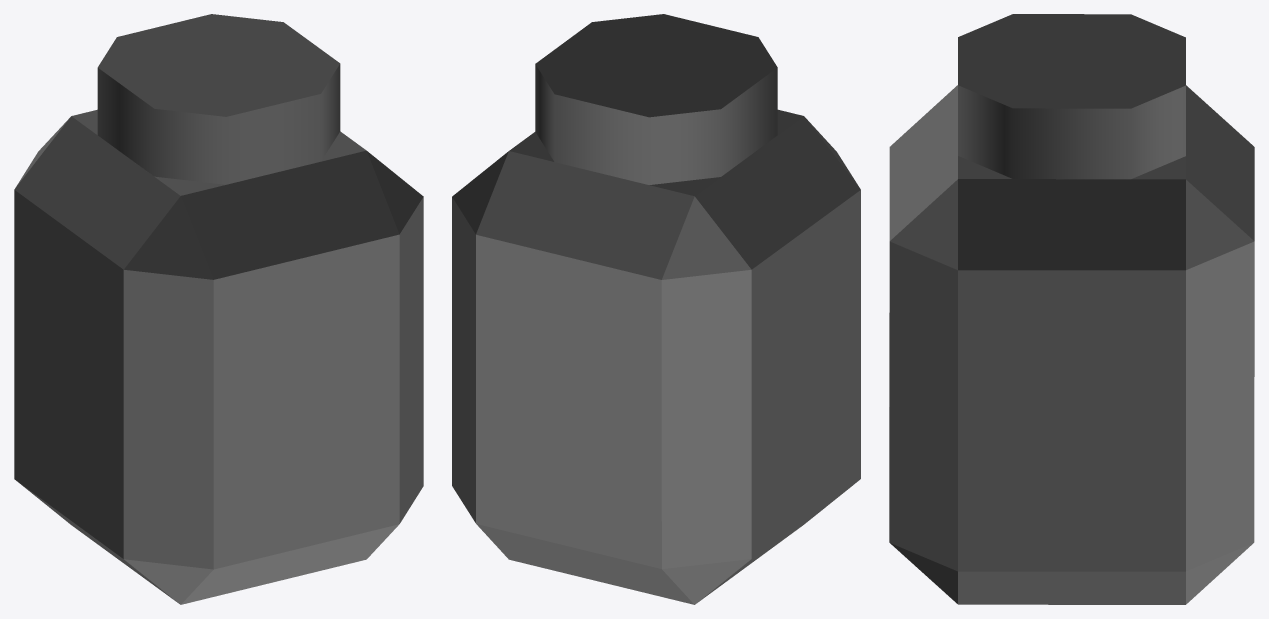
File: ship_tt_02.glb
3 views of the same model, side by side, from view 1: azimuth 30°, elevation 25°; view 2: azimuth 150°, elevation 25°; view 3: azimuth 270°, elevation 25° (orthographic). The views are drawn at different scales.
Visible parts, largest first — view 1: group_13; view 2: group_13; view 3: group_13.
Part boxes in pixels (x1,y1,x2,y2): group_13: (14, 14, 423, 604); group_13: (452, 14, 860, 604); group_13: (889, 14, 1254, 604).
Size of the model in its own units: 1184 by 1800 by 1200.
1 material, 1 textured.
